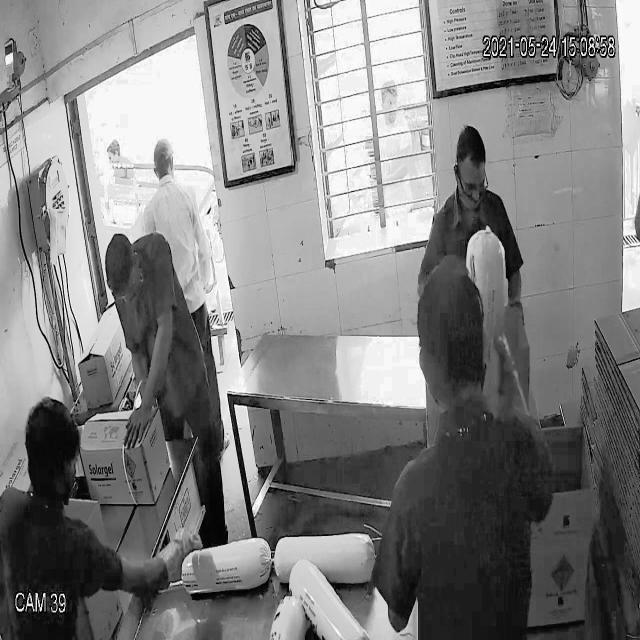glasses: (452, 164, 490, 200)
